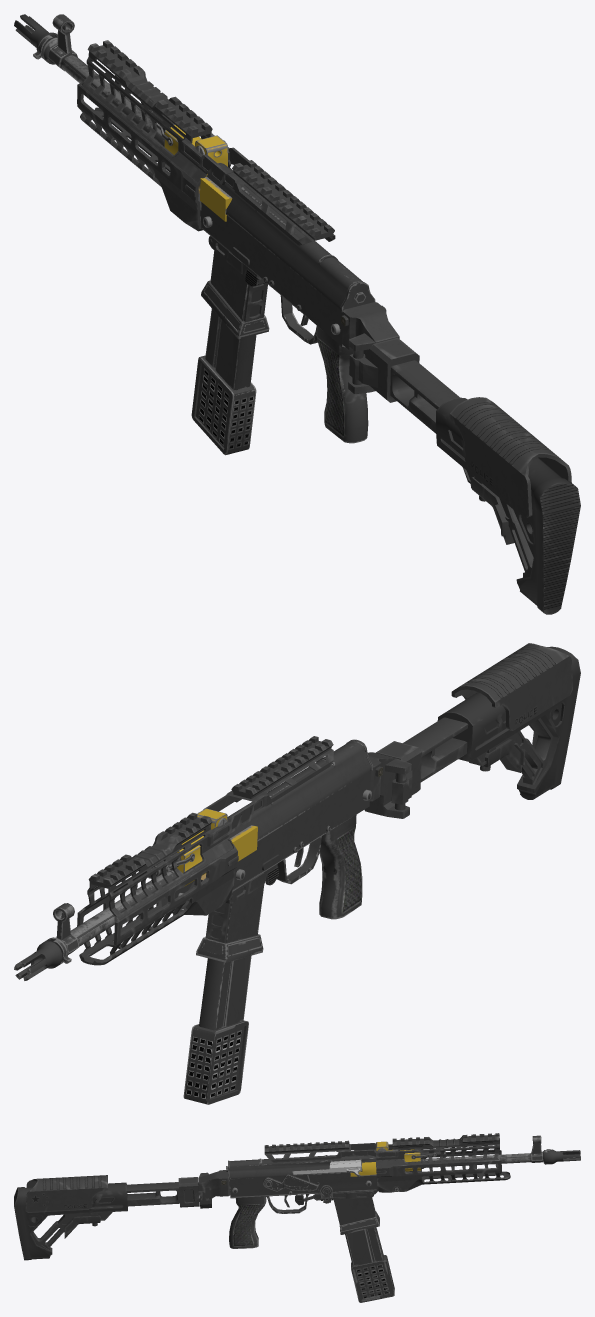
Rendered from type-79_cheng_ying_kit.glb.
3 views of the same model, one above another, from view 1: azimuth 30°, elevation 25°; view 2: azimuth 150°, elevation 25°; view 3: azimuth 270°, elevation 25° (orthographic). The views are drawn at different scales.
Parts seen in each view (by area): view 1: Object_4, Object_3, Object_2; view 2: Object_4, Object_3, Object_2; view 3: Object_4, Object_3, Object_2.
Boxes of the visible parts, left/top/right/bottom form: Object_4: left=14, top=14, right=375, bottom=455; Object_3: left=88, top=40, right=580, bottom=614; Object_2: left=77, top=45, right=335, bottom=245; Object_4: left=14, top=739, right=372, bottom=1104; Object_3: left=89, top=643, right=580, bottom=942; Object_2: left=77, top=741, right=333, bottom=965; Object_4: left=226, top=1135, right=580, bottom=1302; Object_3: left=14, top=1133, right=499, bottom=1260; Object_2: left=264, top=1134, right=510, bottom=1192.
Size of the model in its own units: 0.11 by 0.4695 by 1.47.
2 materials, 2 textured.
